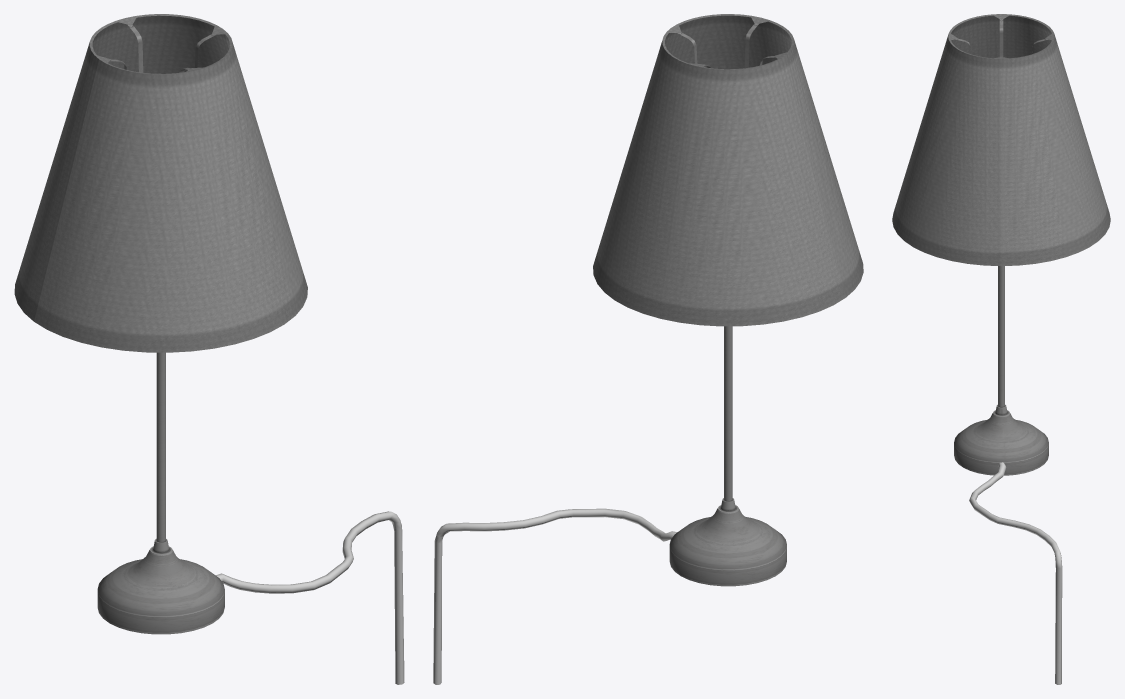
The model's file is SM_Lamp.fbx.
The picture shows the model from 3 angles, left to right: view 1: azimuth 30°, elevation 25°; view 2: azimuth 150°, elevation 25°; view 3: azimuth 270°, elevation 25°; orthographic projection. The views are drawn at different scales.
Visible parts, largest first — view 1: SM_Lamp_LOD0; view 2: SM_Lamp_LOD0; view 3: SM_Lamp_LOD0.
Part boxes in pixels (box(x1,y1,x2,y2)): SM_Lamp_LOD0: box(14, 14, 404, 684); SM_Lamp_LOD0: box(433, 14, 863, 684); SM_Lamp_LOD0: box(892, 14, 1110, 684).
Bounding box in the file's own units: 61.58 × 38.42 × 106.
